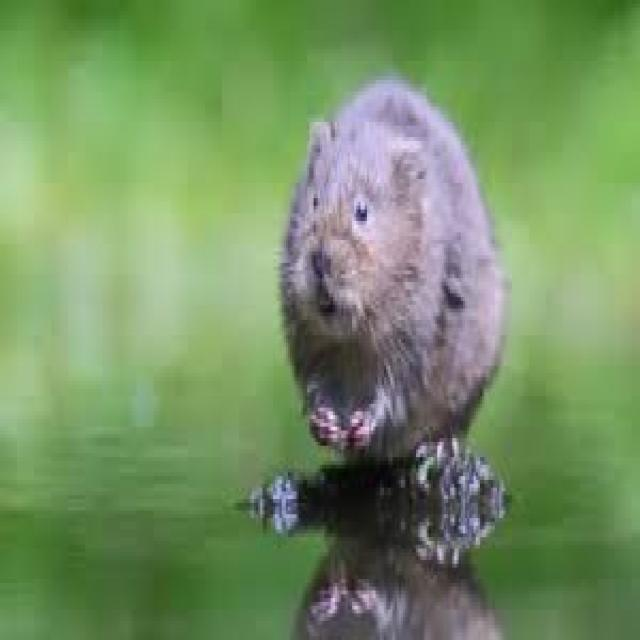Rat: (239, 34, 507, 478)
